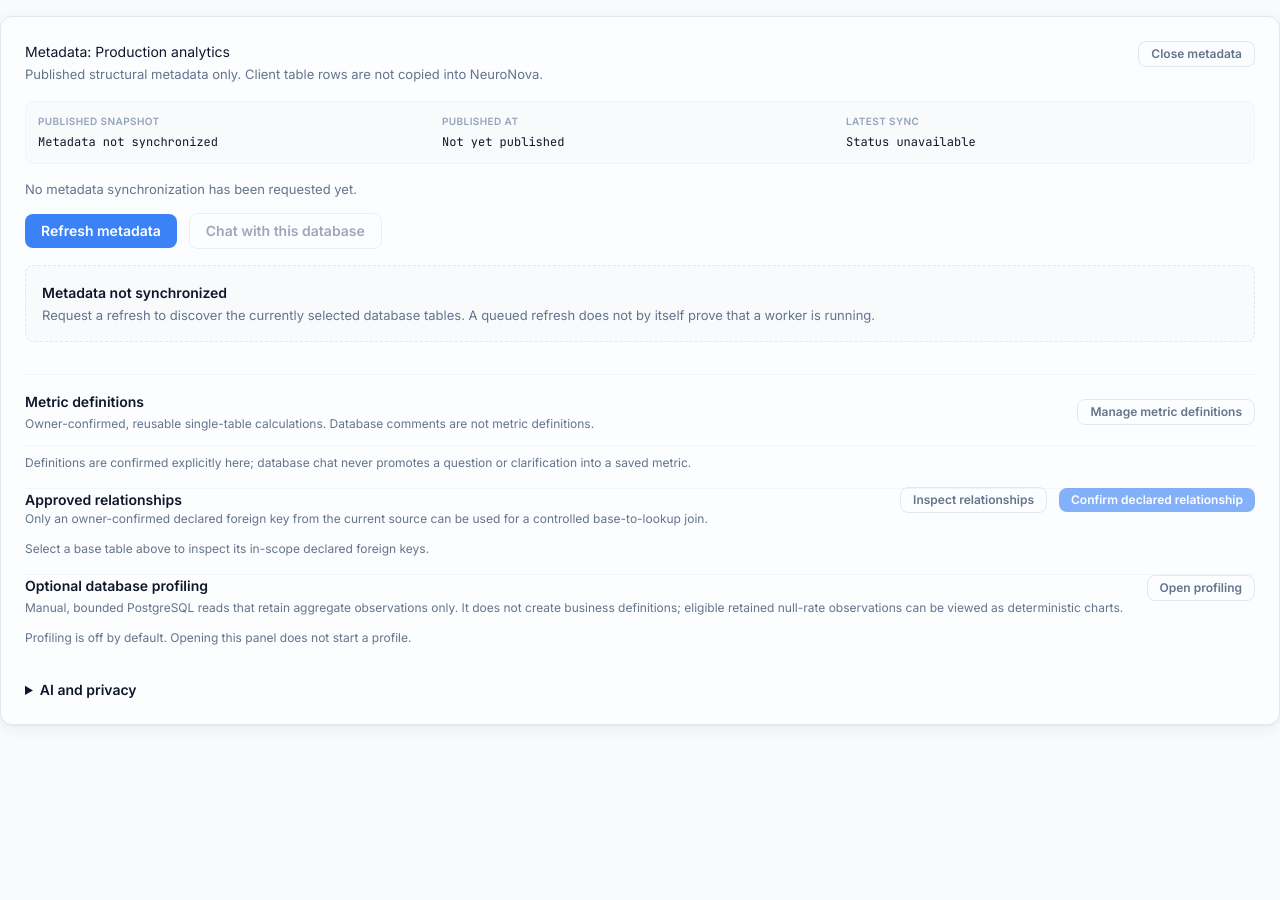
Test case: shows an unsynchronized source and requests a JWT-only metadata refresh
The width and height of the screenshot is (1280, 900).
Expected: the heading "Metadata not synchronized" is shown, 42,284 -> 227,301
What coordinates should you click on to do the following:
click the button "Refresh metadata"
I would click on:
 (101, 231)
Its box is 25,214 -> 177,248.
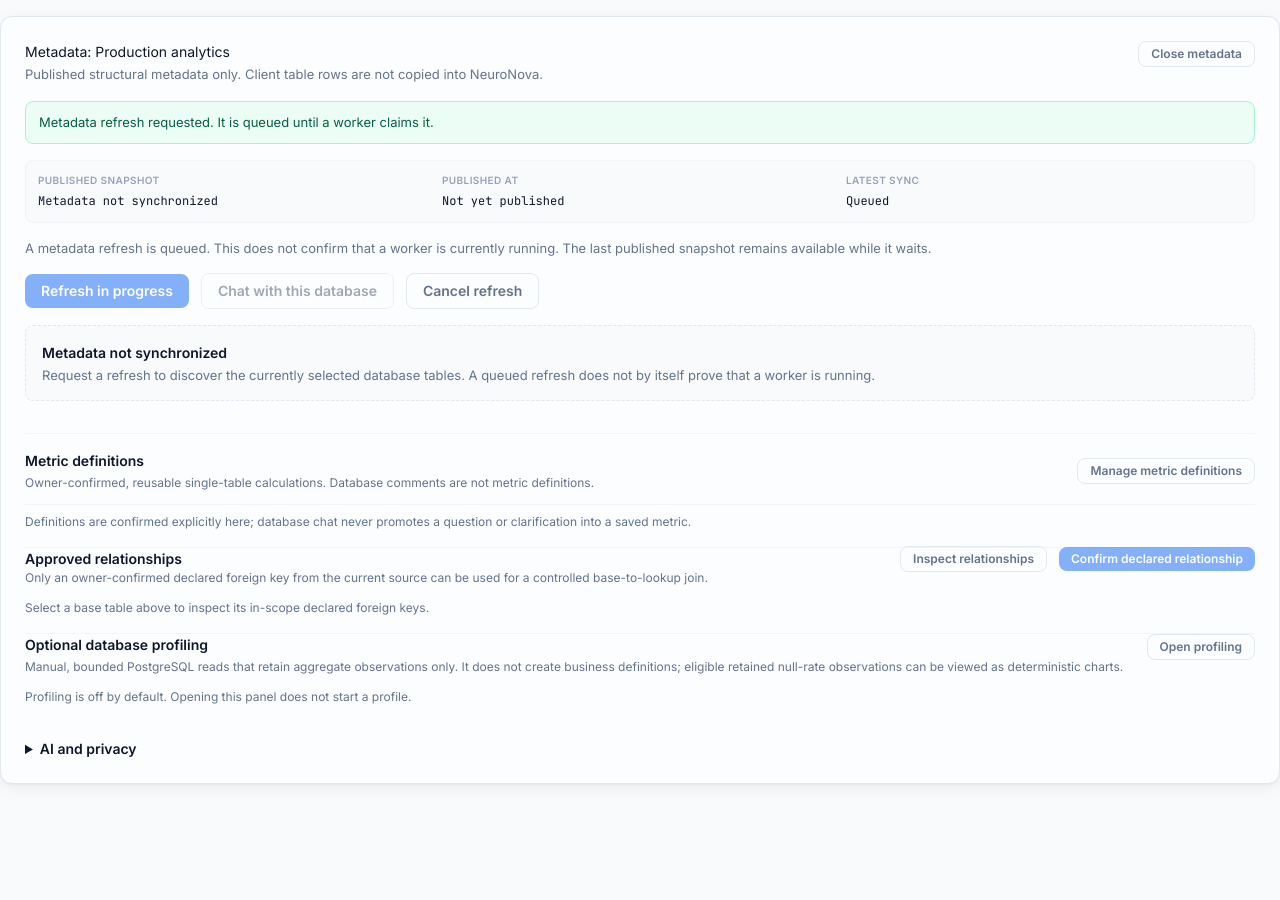
Now the text "Queued" is shown, box 846,193 -> 889,209
Now the text "Metadata refresh requested. It is queued until a worker claims it." is shown, box 25,100 -> 1255,144
